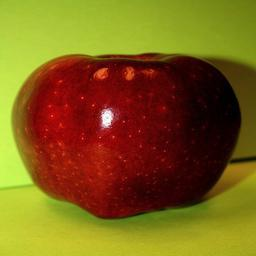apple: (11, 52, 241, 219)
